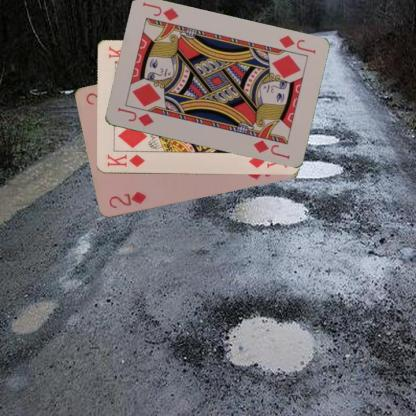2d: (106, 189, 148, 210)
Jd: (114, 105, 155, 128), (276, 33, 316, 55)
Kd: (104, 152, 146, 169)
